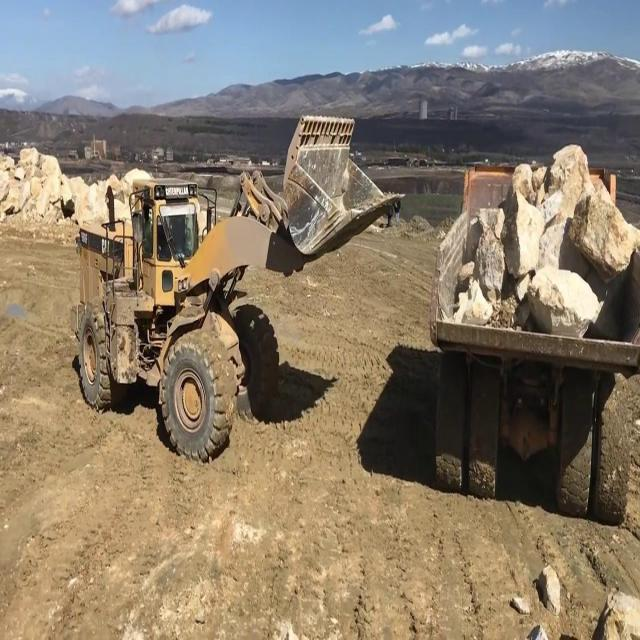buldozerpayloadergrader: (69, 111, 407, 469)
dump_truck: (425, 160, 639, 525)
